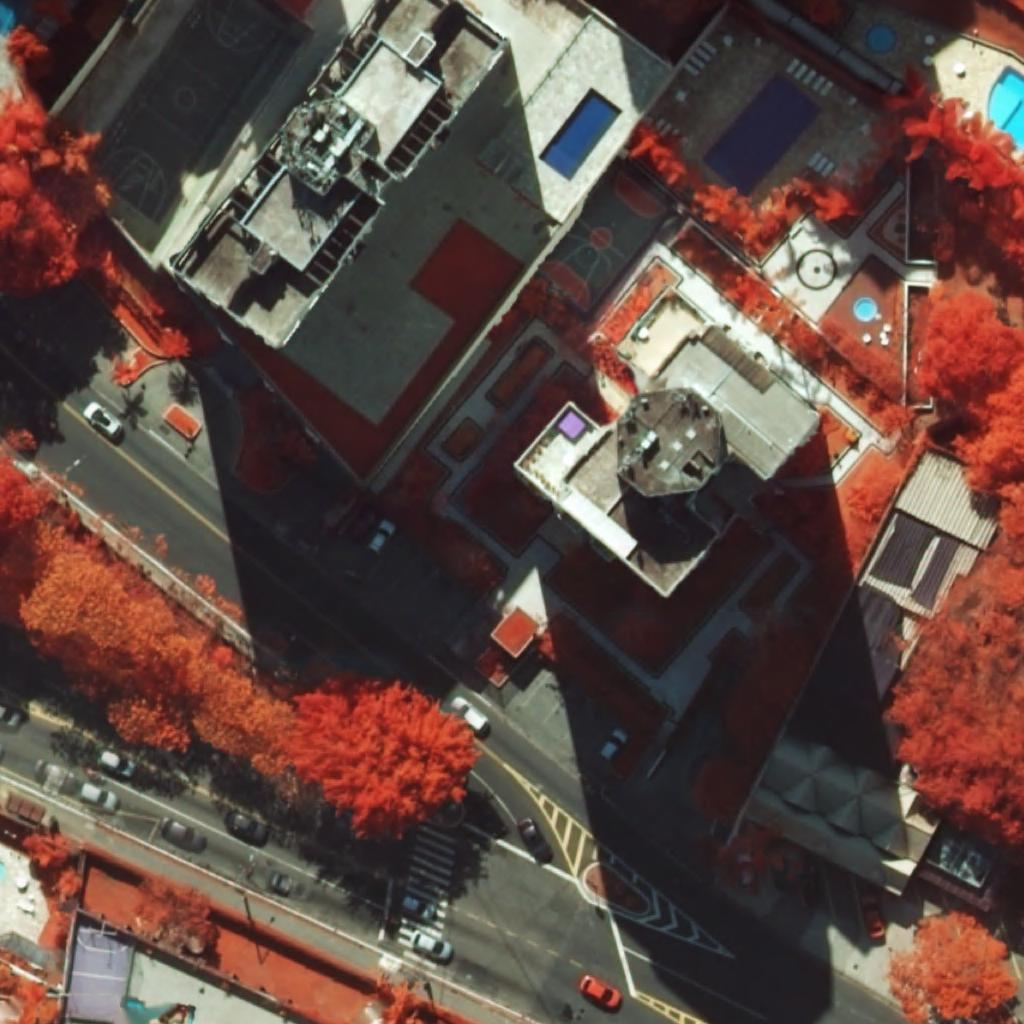pool: (701, 73, 823, 197), (538, 87, 623, 182), (987, 65, 1024, 150), (867, 25, 898, 53), (856, 298, 876, 319)
